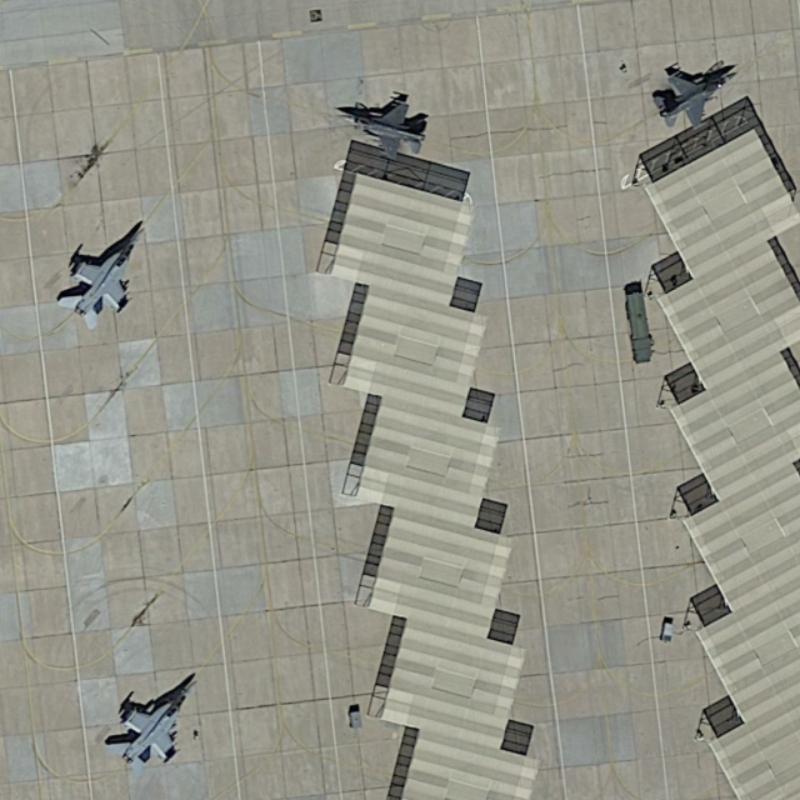A16: (53, 217, 153, 332), (100, 669, 206, 776)
A5: (326, 89, 432, 167), (649, 57, 740, 133)
